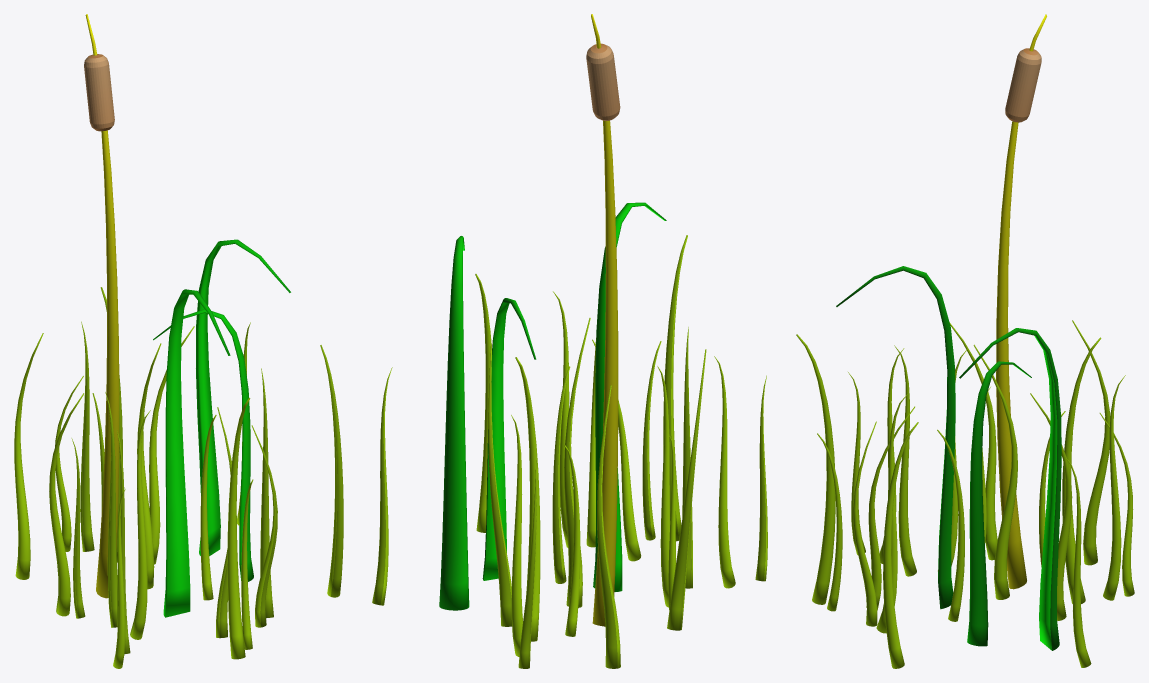
The model's file is SM_Env_WildGrass.fbx.
3 renders of one model, left to right at view 1: azimuth 30°, elevation 25°; view 2: azimuth 150°, elevation 25°; view 3: azimuth 270°, elevation 25°, orthographic. The views are drawn at different scales.
Parts seen in each view (by area): view 1: SM_Env_WildGrass; view 2: SM_Env_WildGrass; view 3: SM_Env_WildGrass.
Boxes of the visible parts, bbox=[...] form: SM_Env_WildGrass: bbox=[14, 14, 343, 668]; SM_Env_WildGrass: bbox=[372, 14, 767, 668]; SM_Env_WildGrass: bbox=[796, 14, 1134, 668].
Bounding box in the file's own units: 0.6618 × 1.47 × 0.79.
